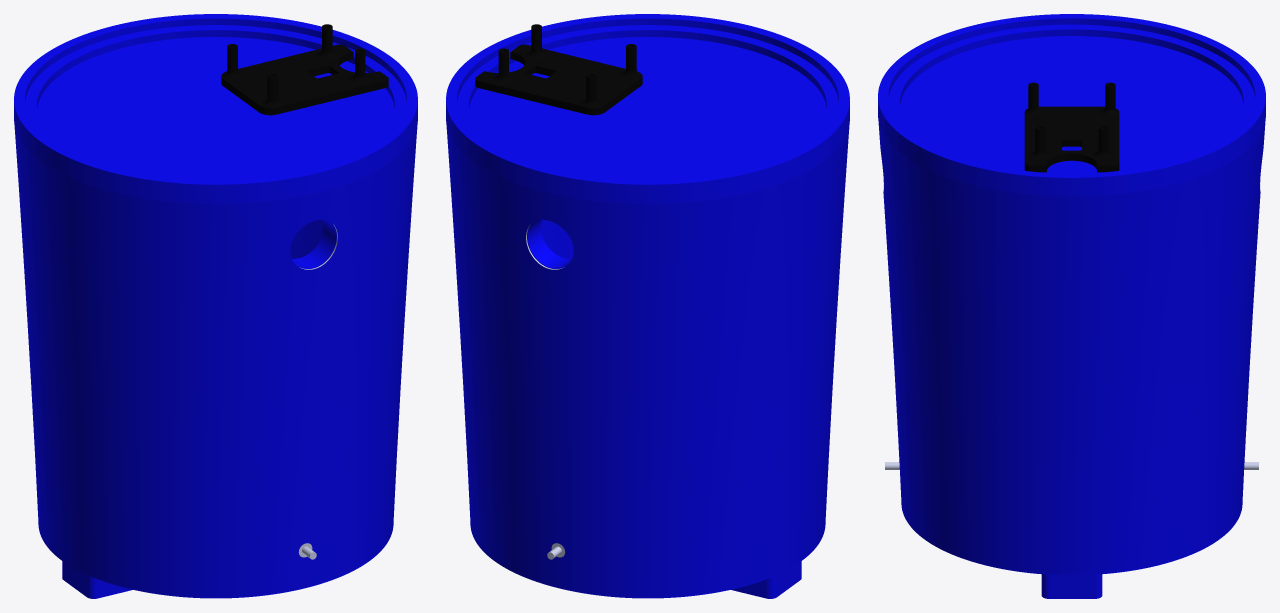
3 renders of one model, left to right at view 1: azimuth 30°, elevation 25°; view 2: azimuth 150°, elevation 25°; view 3: azimuth 270°, elevation 25°, orthographic. The views are drawn at different scales.
Parts seen in each view (by area): view 1: 60b84438d355c42da4dce9d4 (×5); view 2: 60b84438d355c42da4dce9d4 (×5); view 3: 60b84438d355c42da4dce9d4 (×4).
Part boxes in pixels (left/top/right/bottom): 60b84438d355c42da4dce9d4 (×5): left=14, top=14, right=417, bottom=598; 60b84438d355c42da4dce9d4 (×5): left=446, top=14, right=849, bottom=598; 60b84438d355c42da4dce9d4 (×4): left=878, top=14, right=1265, bottom=598.
Size of the model in its own units: 0.308 by 0.308 by 0.4077.
